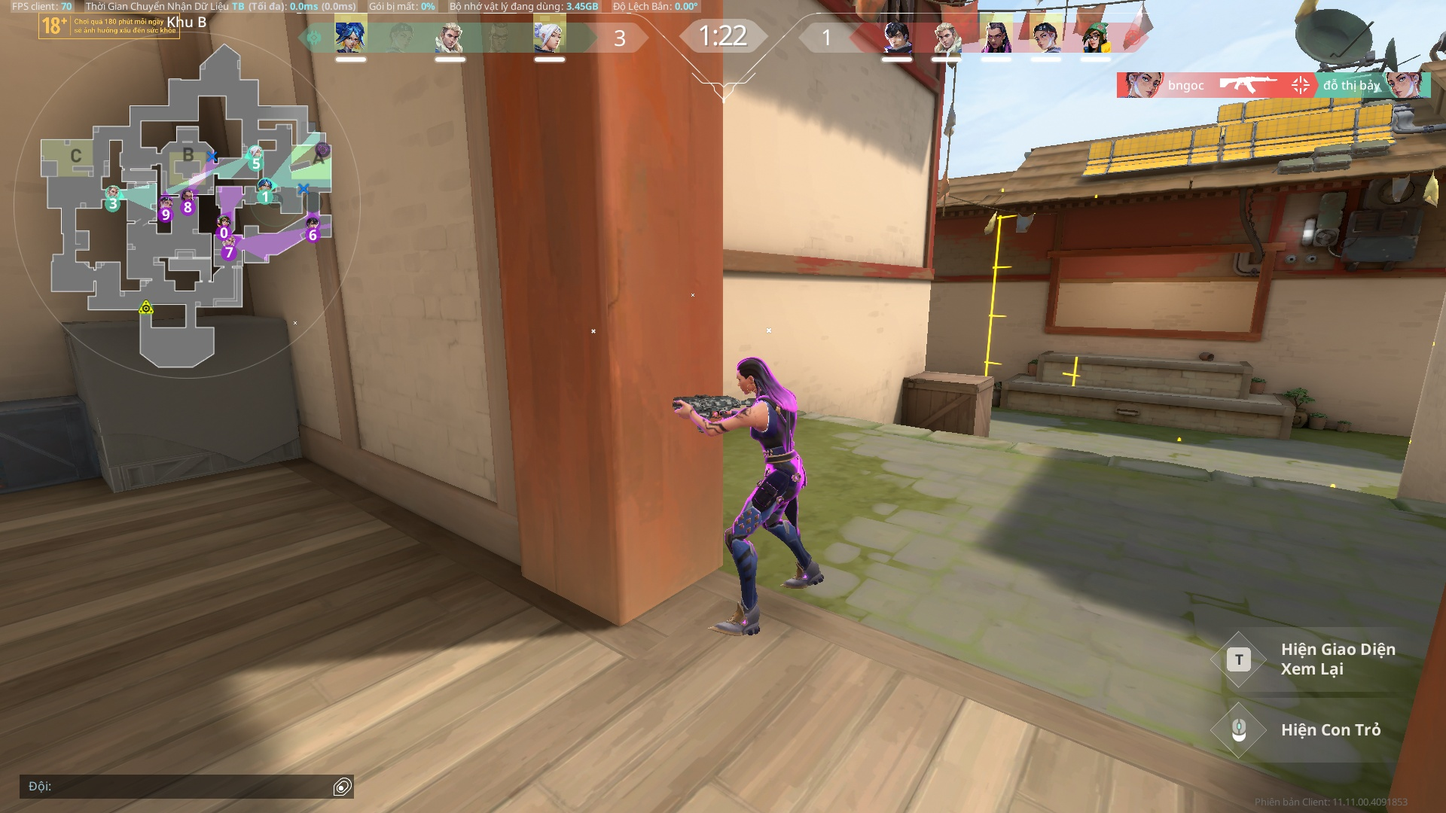body: (727, 391, 809, 477)
head: (732, 353, 770, 391)
